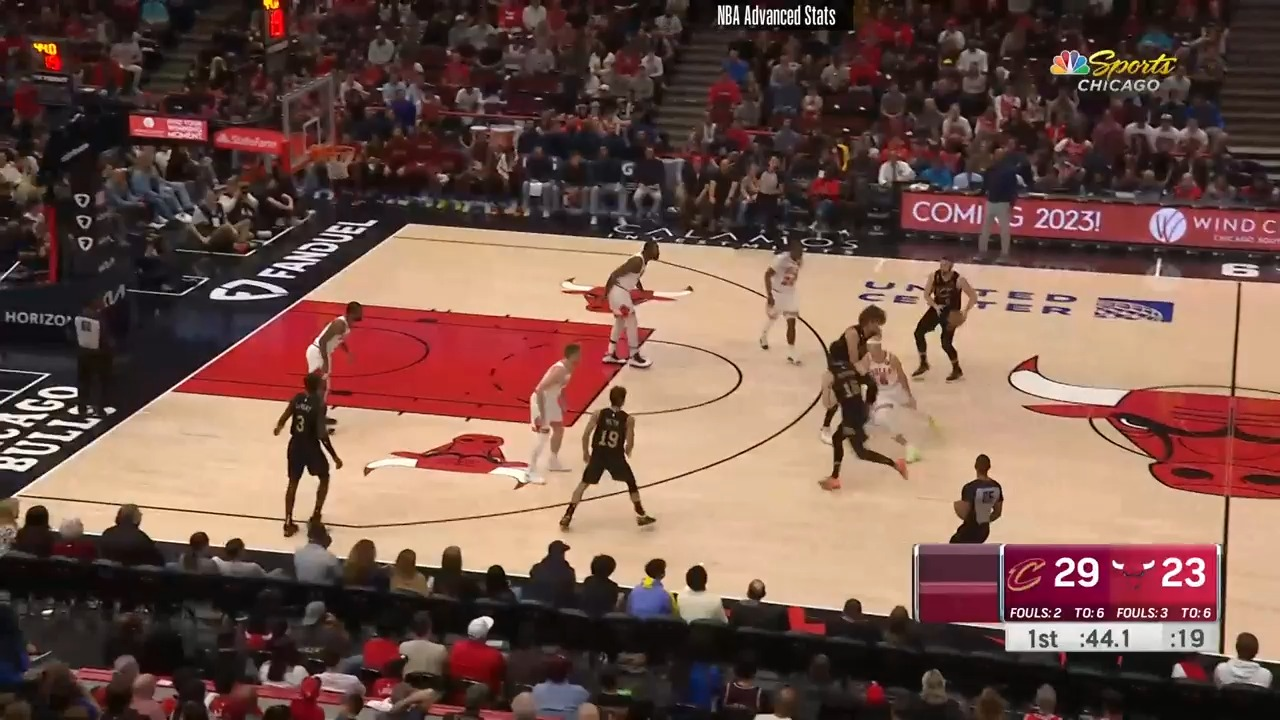net: (302, 140, 363, 188)
player: (810, 336, 912, 499), (557, 378, 662, 532), (270, 366, 349, 540), (580, 241, 664, 373), (860, 336, 941, 467), (904, 251, 984, 381), (817, 305, 889, 440), (526, 343, 586, 487), (750, 243, 814, 356), (301, 299, 371, 399)
referee: (64, 297, 119, 429), (944, 452, 1006, 545)
